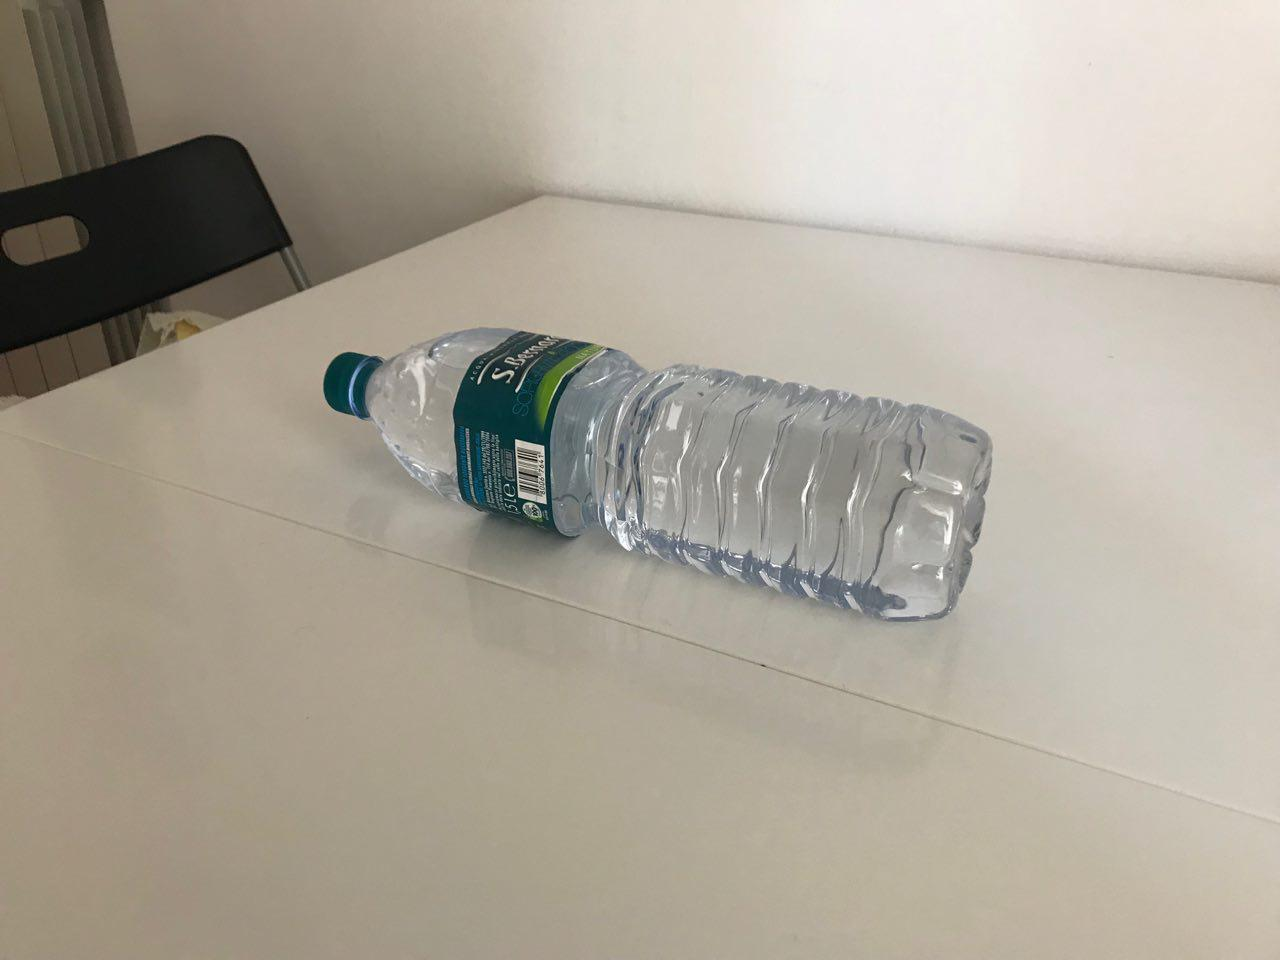san_bernardo: (321, 325, 995, 623)
